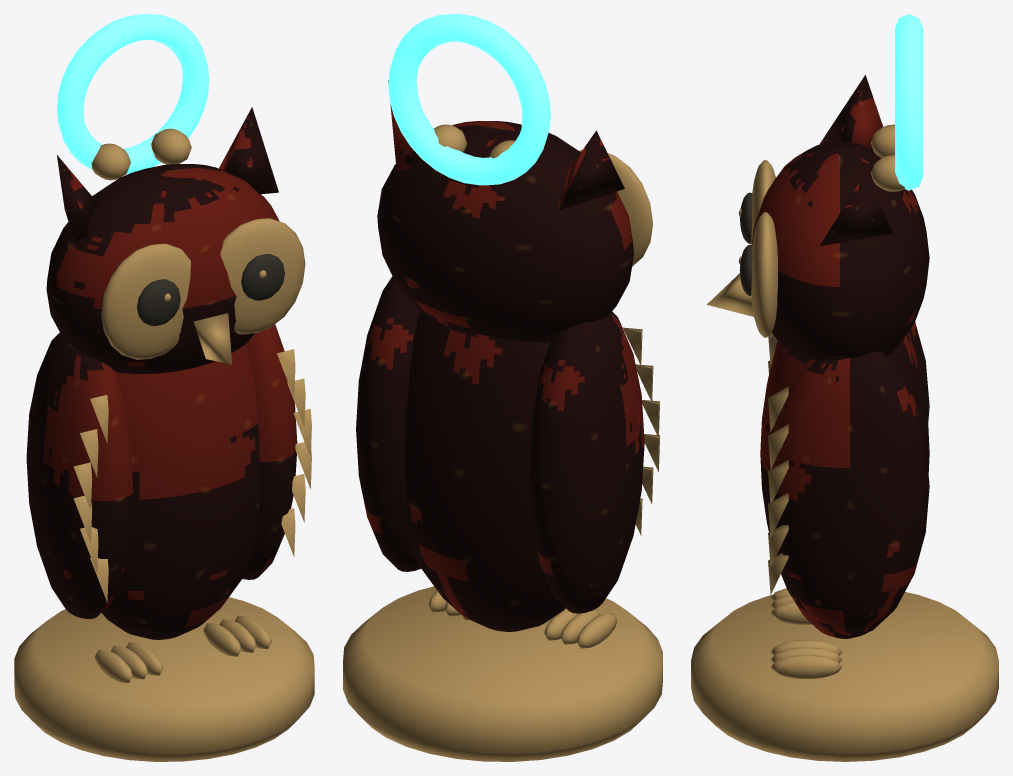
File: statuette_pattern_cinnabar.fbx
3 renders of one model, left to right at view 1: azimuth 30°, elevation 25°; view 2: azimuth 150°, elevation 25°; view 3: azimuth 270°, elevation 25°, orthographic. The views are drawn at different scales.
Parts seen in each view (by area): view 1: Reviewed_statuette_Body.005, TH_S_Statuette_Handle.006; view 2: Reviewed_statuette_Body.005, TH_S_Statuette_Handle.006; view 3: Reviewed_statuette_Body.005, TH_S_Statuette_Handle.006.
Part boxes in pixels (x1,y1,x2,y2): Reviewed_statuette_Body.005: (14, 107, 314, 761); TH_S_Statuette_Handle.006: (57, 14, 209, 174); Reviewed_statuette_Body.005: (343, 80, 662, 761); TH_S_Statuette_Handle.006: (388, 14, 550, 185); Reviewed_statuette_Body.005: (691, 75, 998, 761); TH_S_Statuette_Handle.006: (895, 14, 923, 190).
Size of the model in its own units: 0.12 by 0.2925 by 0.12.
Materials: 4 (1 with a texture image).
